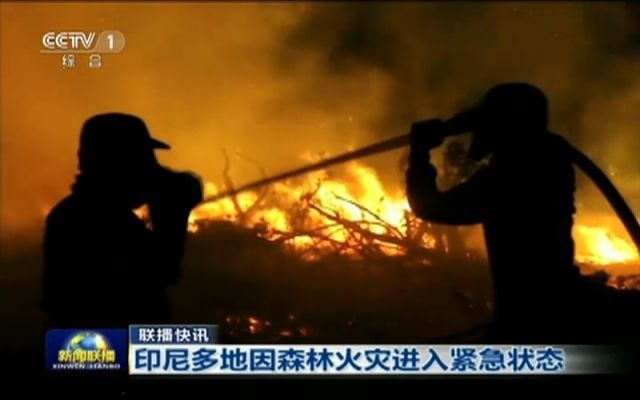fire: (188, 155, 423, 250), (574, 222, 640, 268)
